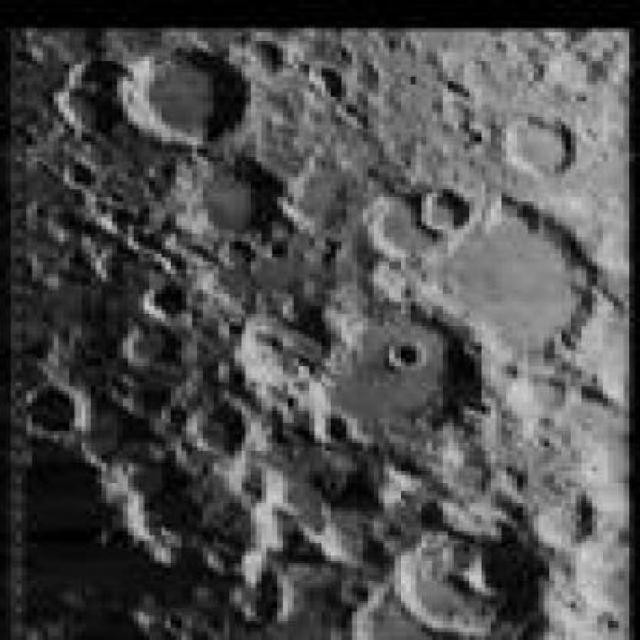crater: (325, 302, 484, 440), (398, 524, 550, 636), (115, 46, 252, 139), (184, 157, 296, 235), (367, 194, 448, 252), (501, 115, 577, 174), (185, 400, 252, 457), (29, 388, 89, 437), (423, 185, 474, 230), (145, 286, 190, 317)
